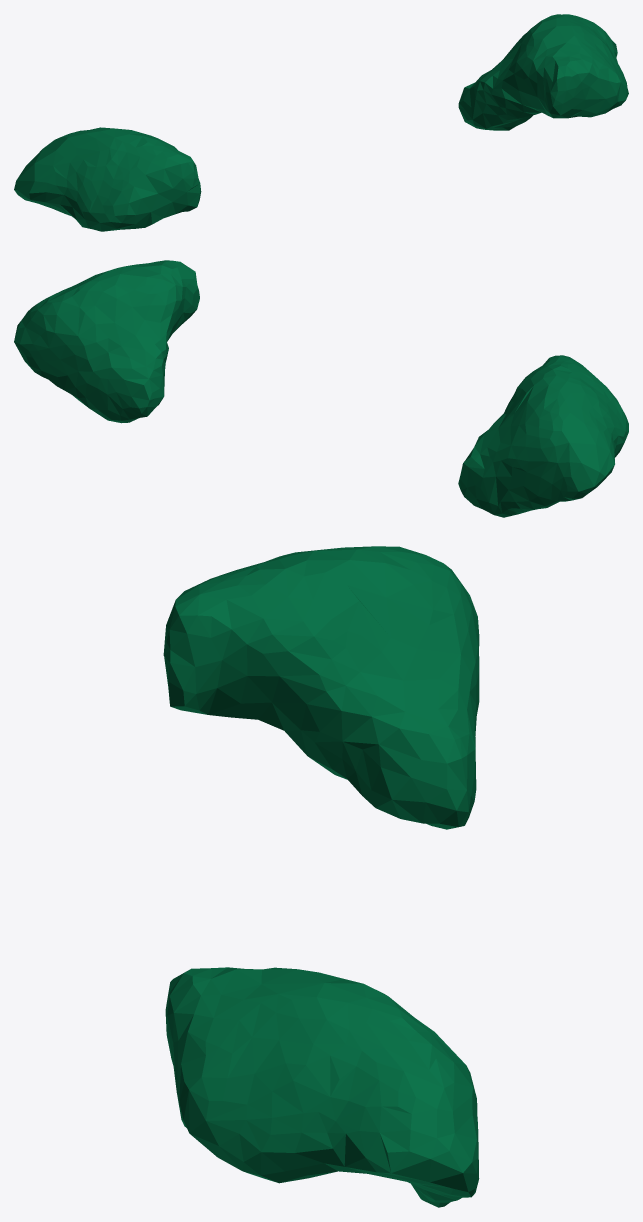
The model's file is 72-8AD-area 8 of cortex, anterodorsal part-('0.0000', '0.4980', '0.3059').obj.
The picture shows the model from 3 angles, top to bottom: view 1: azimuth 30°, elevation 25°; view 2: azimuth 150°, elevation 25°; view 3: azimuth 270°, elevation 25°; orthographic projection. The views are drawn at different scales.
Bounding box in the file's own units: 231 × 45.3 × 53.54.
